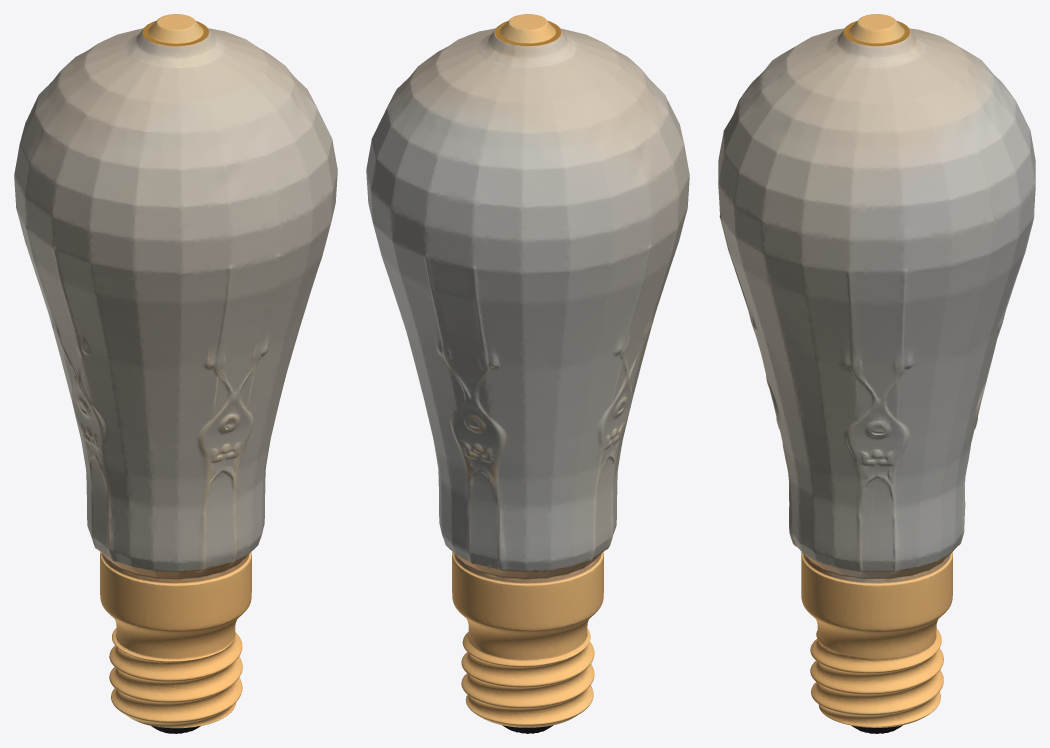
File: lamp.glb
3 renders of one model, left to right at view 1: azimuth 30°, elevation 25°; view 2: azimuth 150°, elevation 25°; view 3: azimuth 270°, elevation 25°, orthographic.
Bounding box in the file's own units: 0.7737 × 1.9 × 0.774.
Materials: 1 (1 with a texture image).
